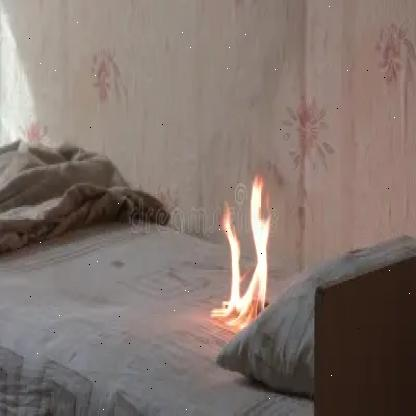fire: (219, 173, 276, 331)
